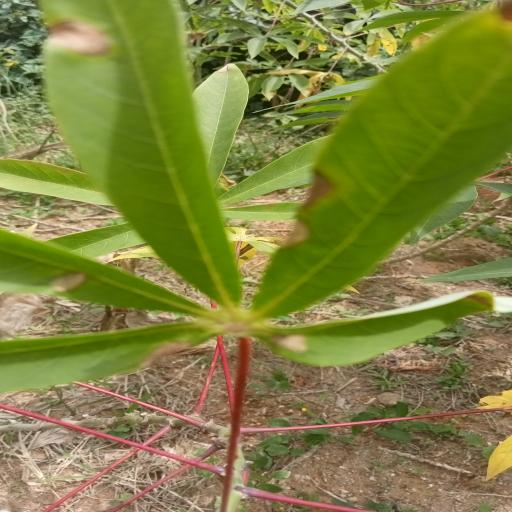Cassava_Root_Rot: (9, 0, 512, 395)
